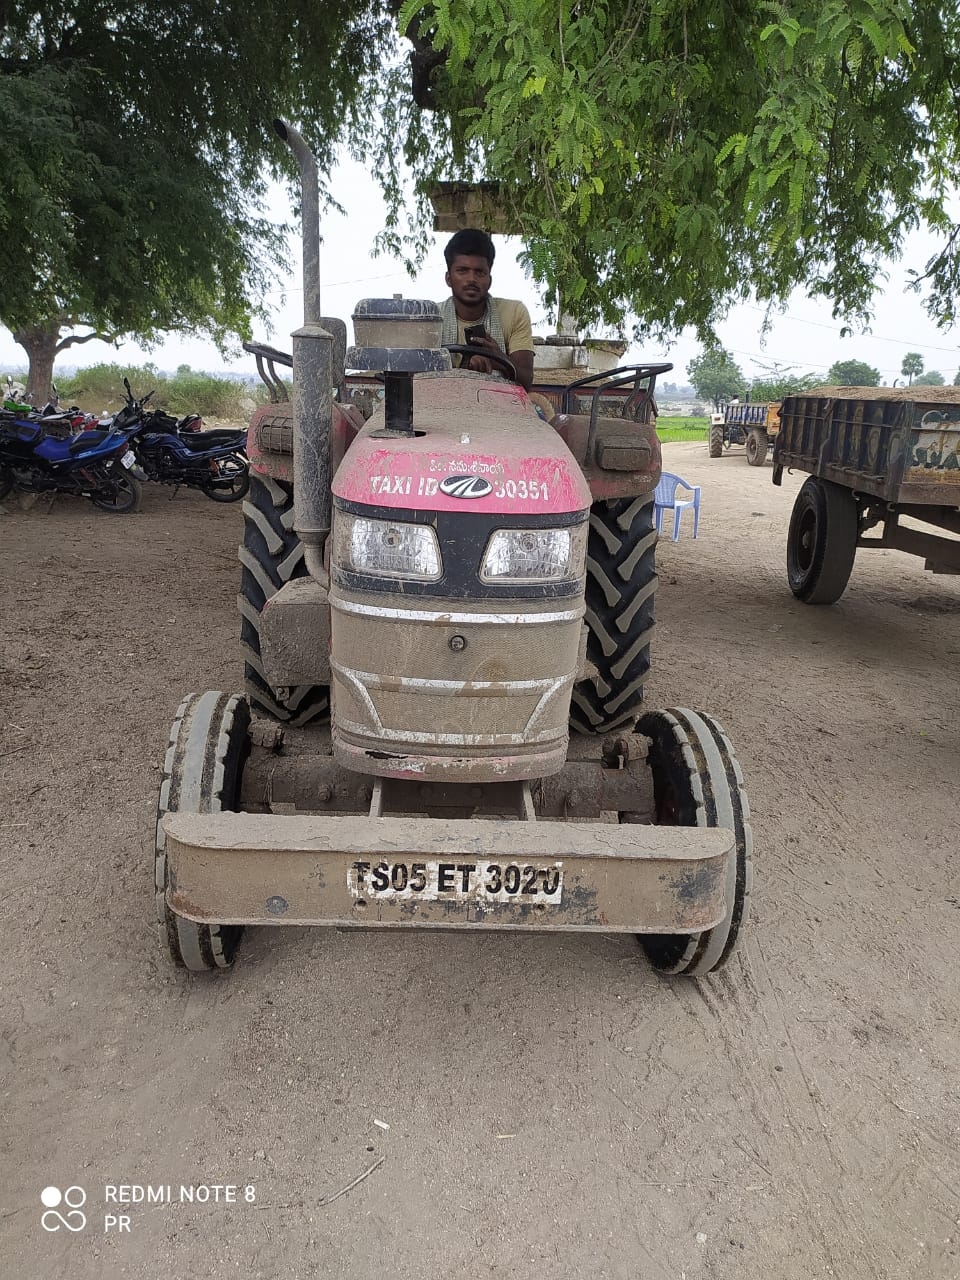num_plate: (344, 858, 569, 902)
